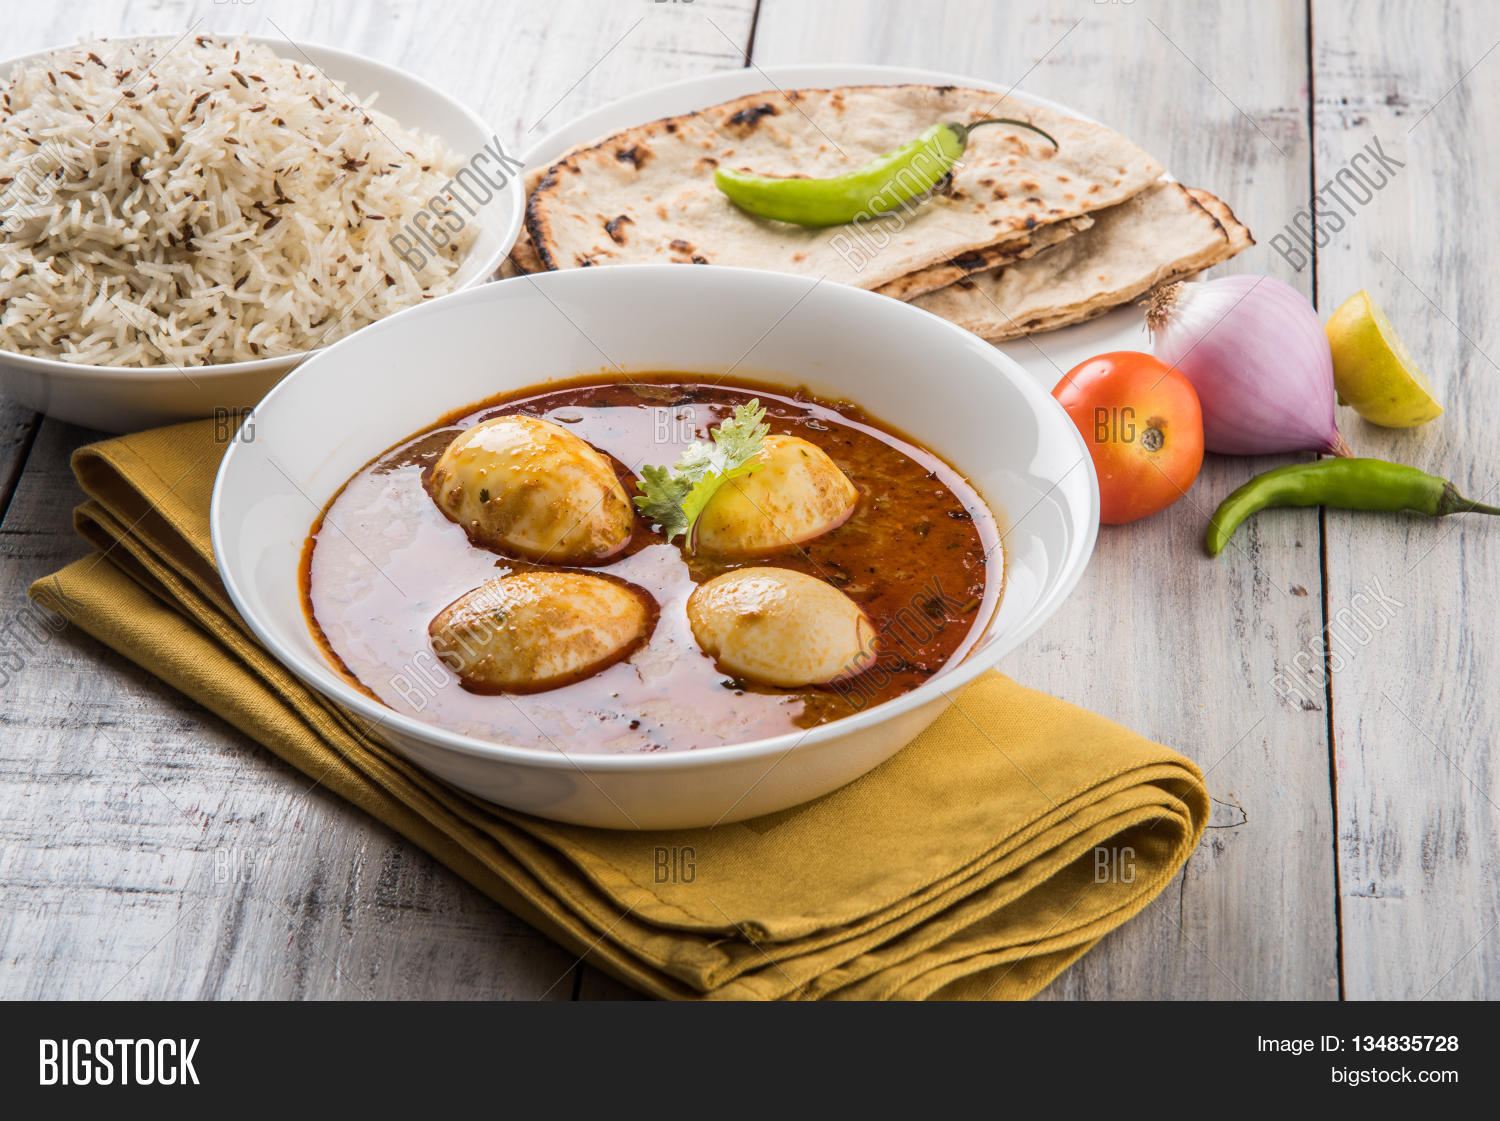curry: (327, 366, 1023, 757)
egg: (648, 516, 887, 712), (652, 383, 890, 579), (401, 365, 639, 560), (413, 528, 651, 723)
rice: (5, 41, 456, 349)
roti: (531, 61, 1267, 334)
